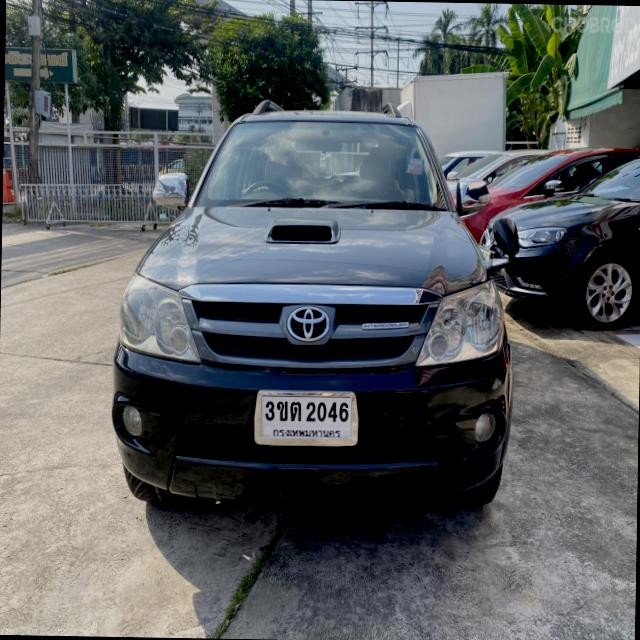license_plate: (253, 388, 359, 448)
